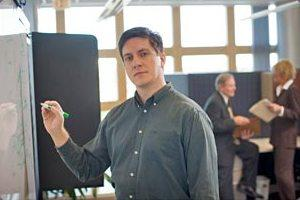person: (46, 33, 225, 200)
